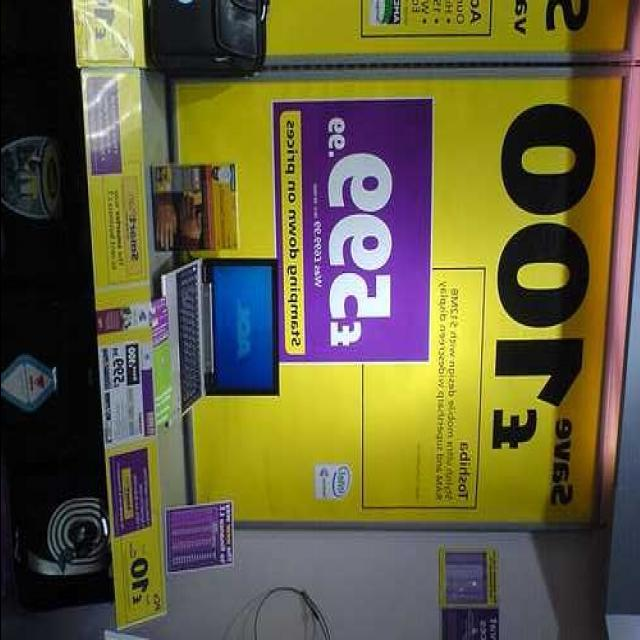laptop: (174, 260, 278, 404)
